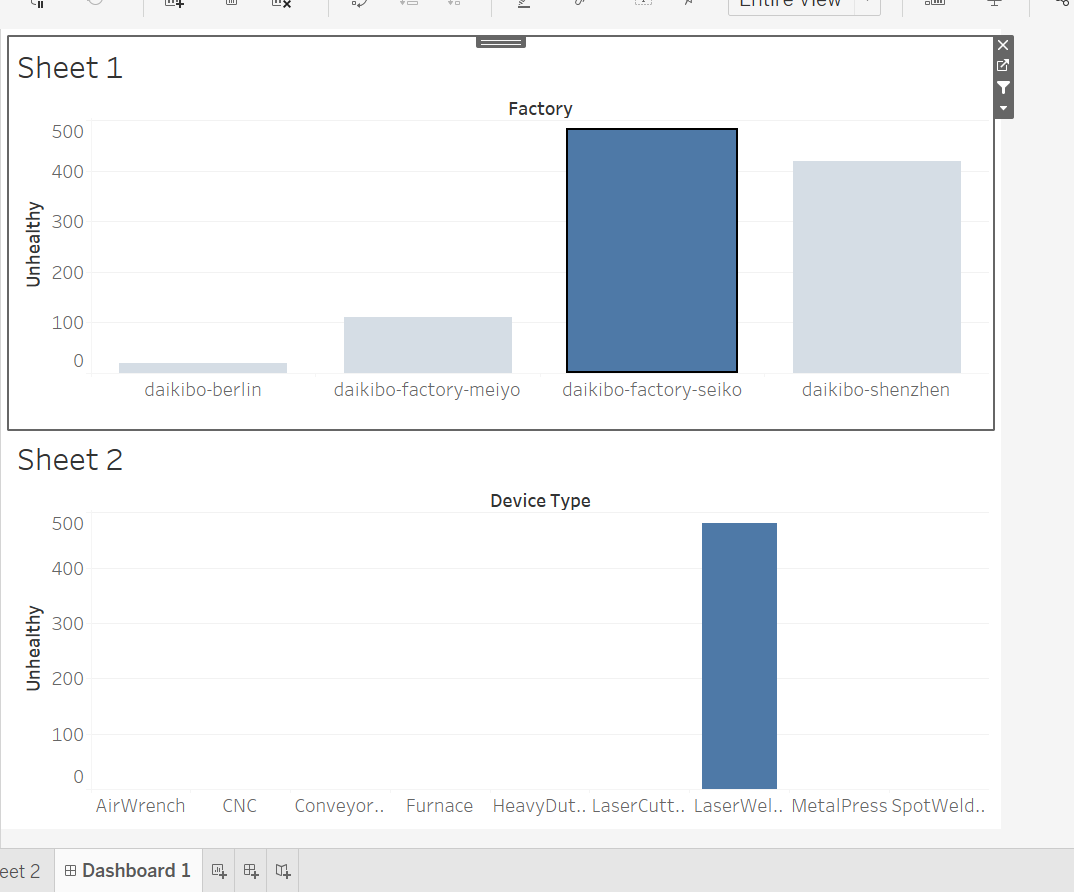

Layout of this report page (visuals, bound fields, positions):
{"tool":"tableau","page":{"name":"Dashboard 1","canvas":[1000,800],"ordinal":0},"visuals":[{"type":"worksheet","title":"Sheet 1","mark":"Automatic","rows":["Calculation_859061633409404928"],"cols":["factory"],"box":[8,8,984,392]},{"type":"worksheet","title":"Sheet 2","mark":"Automatic","rows":["Calculation_859061633409404928"],"cols":["deviceType"],"box":[8,400,984,392]}]}

Visuals, with their boxes on the page's 1000x800 design canvas (x1, y1, x2, y2). These are canvas units, not pixel positions in the 1074x892 screenshot, which may show the page scaled, cropped or inside an application window:
"Sheet 1" worksheet: <region>8, 8, 992, 400</region>
"Sheet 2" worksheet: <region>8, 400, 992, 792</region>
